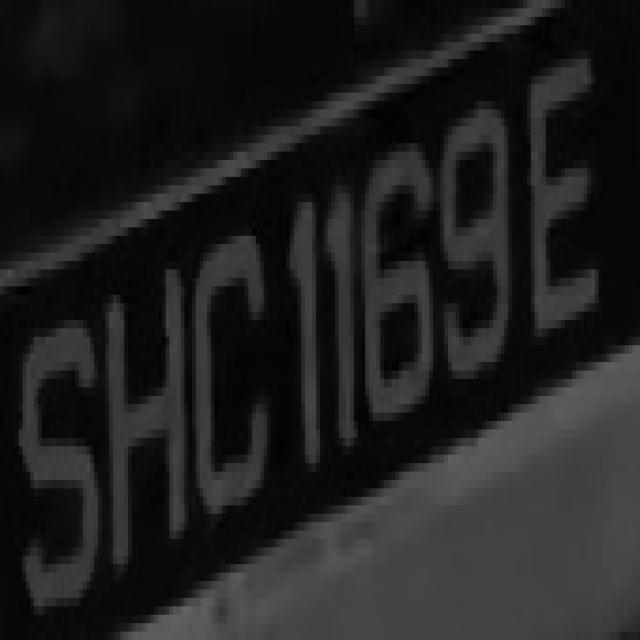1: (271, 185, 328, 506), (316, 160, 369, 488)
6: (350, 152, 444, 446)
9: (422, 118, 520, 413)
C: (173, 210, 279, 539)
E: (508, 50, 606, 412)
H: (94, 253, 196, 581)
S: (15, 278, 105, 606)
